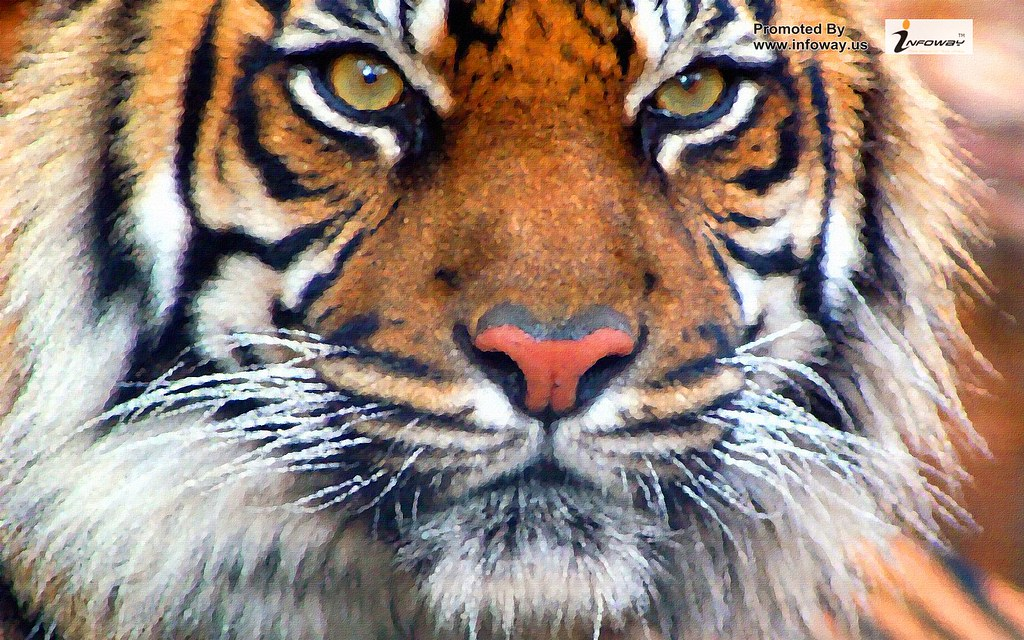Tigrew: (23, 16, 975, 610)
